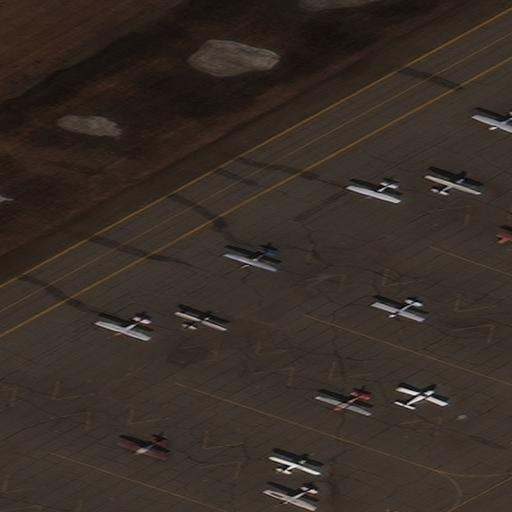Small Civil Transport: (313, 392, 367, 416), (261, 487, 313, 511), (222, 249, 274, 272), (94, 318, 145, 341), (370, 300, 422, 322), (344, 182, 397, 203), (426, 174, 480, 194), (398, 386, 448, 407), (115, 441, 164, 461), (175, 311, 227, 328), (269, 456, 321, 473), (470, 113, 512, 134)
